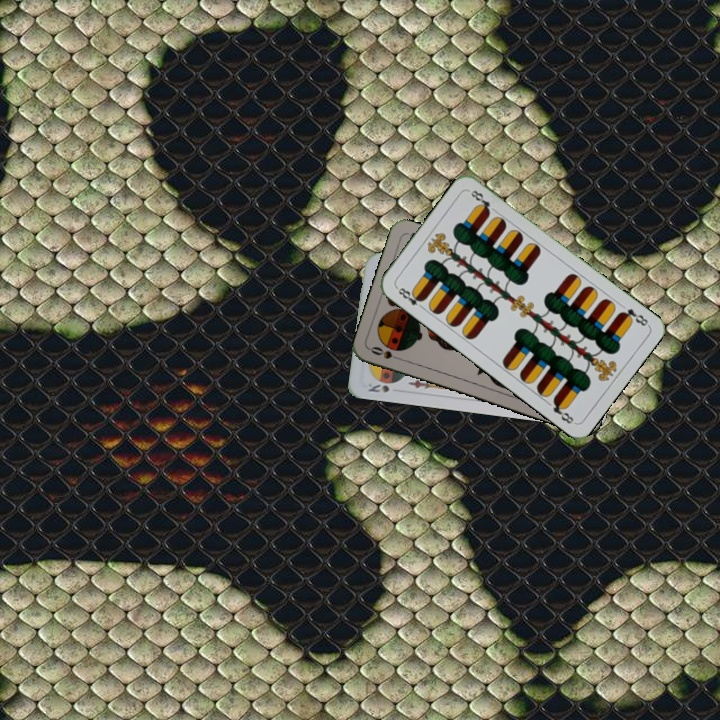E8: (392, 283, 427, 312), (615, 304, 651, 329)
SK: (364, 379, 392, 395)
SO: (366, 342, 406, 363)
